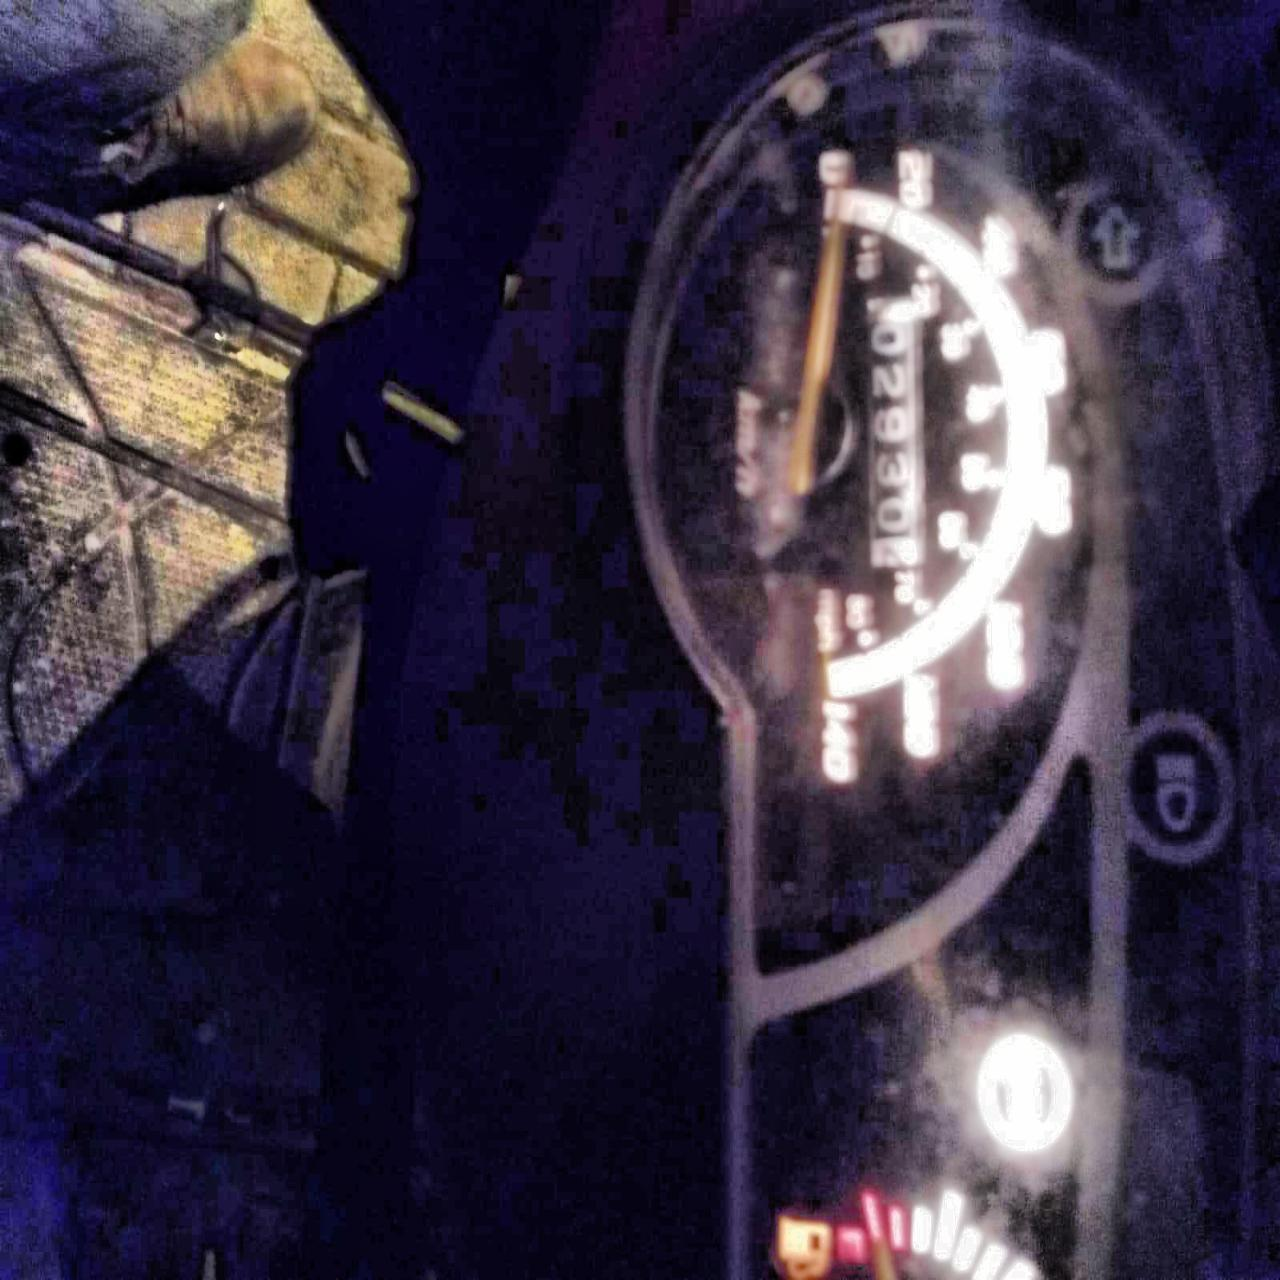0: (872, 495, 908, 531), (870, 324, 904, 351)
2: (866, 364, 907, 400)
3: (870, 453, 910, 489)
4: (870, 539, 916, 572)
9: (870, 408, 910, 442)
odometer: (861, 294, 926, 575)
